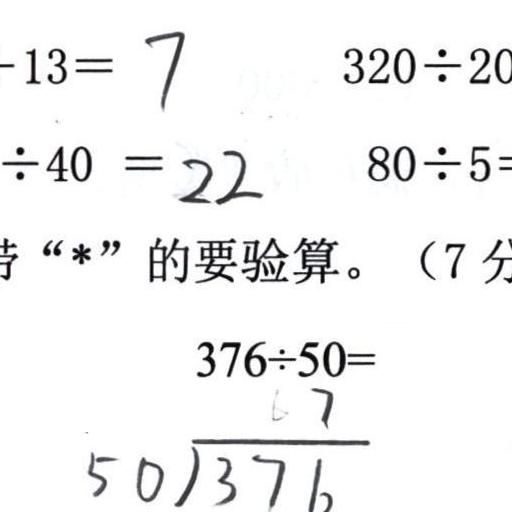ans: (172, 142, 262, 206), (139, 23, 187, 107)
